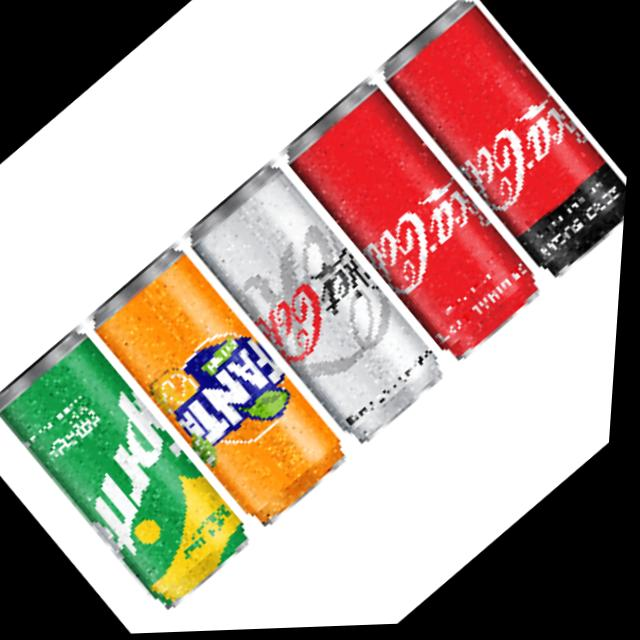aluminum_soda_cans: (265, 68, 560, 373), (180, 162, 468, 460), (83, 241, 367, 535), (363, 0, 640, 292), (0, 320, 272, 617)
